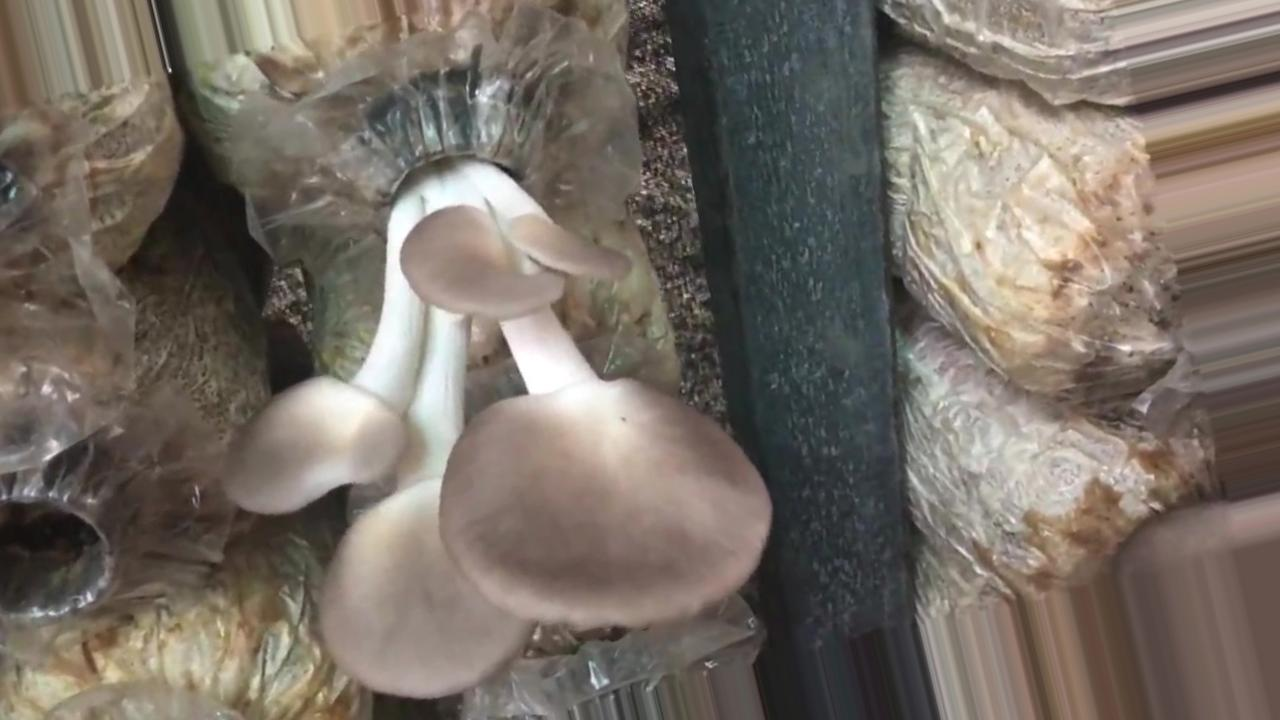nam: (231, 82, 771, 698)
